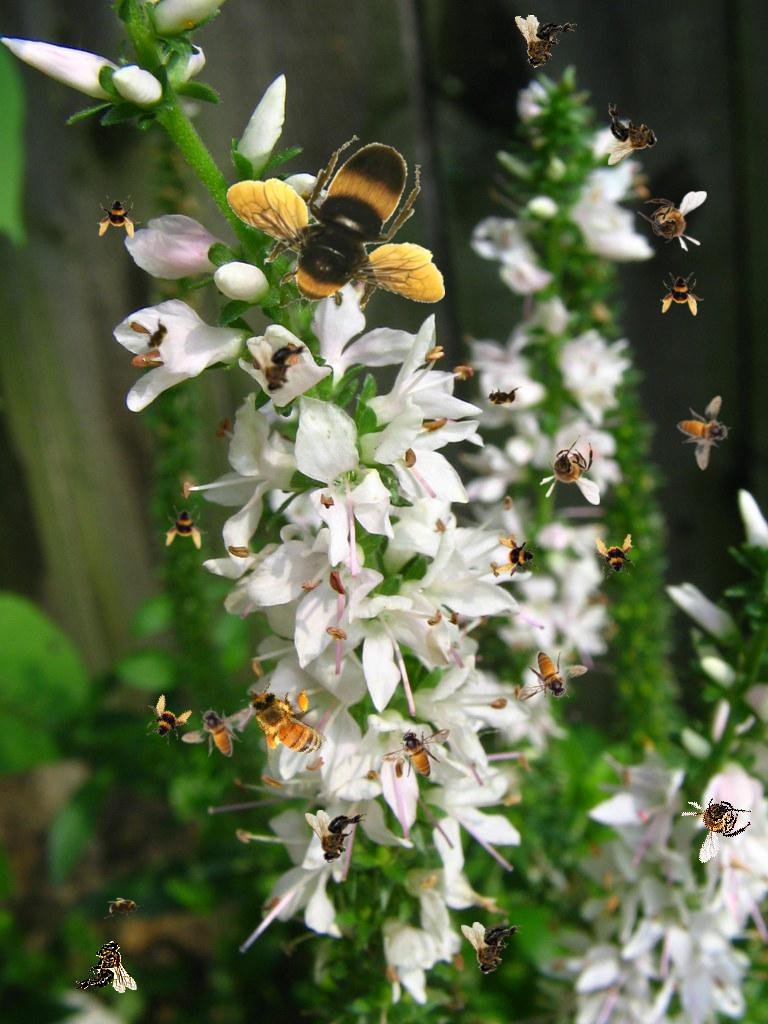Bee: (225, 135, 445, 326), (238, 671, 334, 782), (670, 775, 763, 865), (663, 385, 747, 472), (636, 190, 709, 254), (509, 12, 578, 74), (539, 435, 600, 505), (136, 690, 196, 750), (380, 728, 451, 778), (517, 651, 588, 701), (181, 707, 252, 757), (605, 103, 658, 165), (305, 810, 367, 863), (75, 940, 137, 993), (461, 922, 523, 975), (248, 341, 310, 394), (588, 530, 640, 582), (494, 535, 540, 581), (164, 505, 208, 549), (660, 272, 704, 316), (97, 195, 141, 239), (136, 314, 178, 360), (104, 897, 144, 919), (482, 386, 522, 408)
